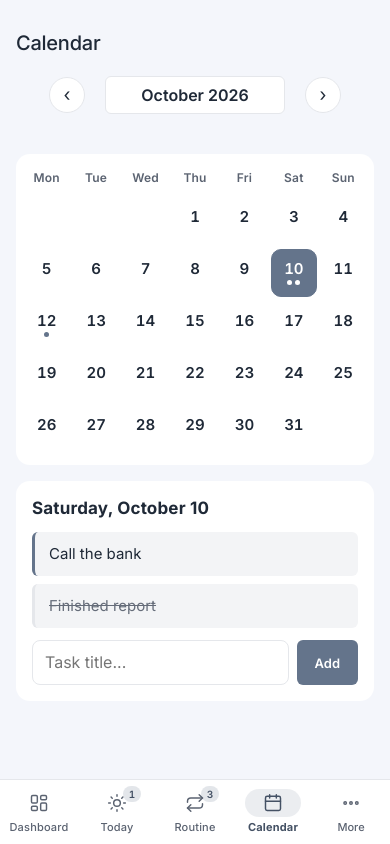
Test case: App calendar agenda › opens the task details from the agenda
Click the button "Call the bank".
click(95, 554)  # box left=32, top=532, right=358, bottom=576
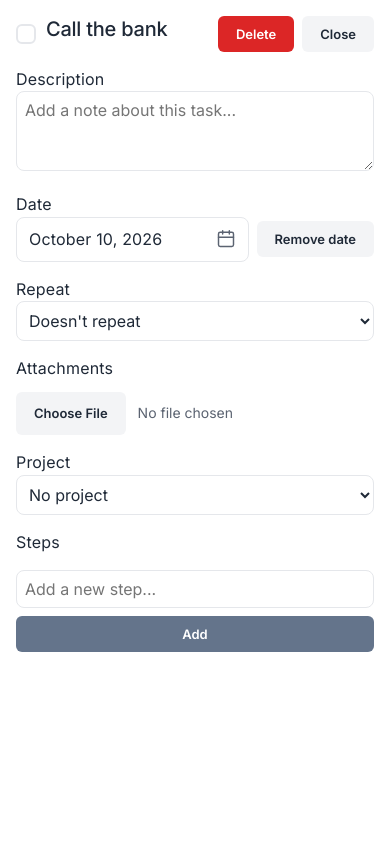
Now the dialog "Call the bank" is shown
